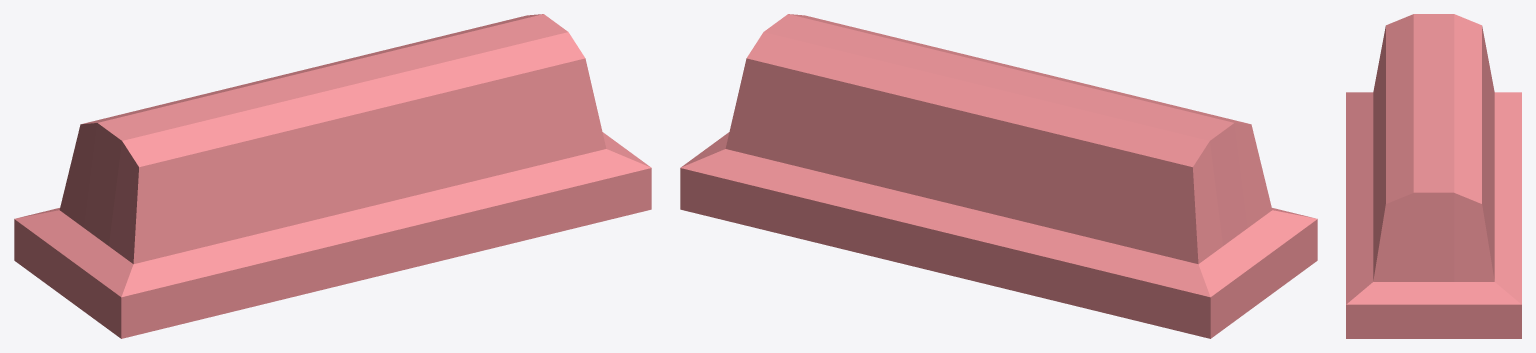
File: barri2.fbx
The picture shows the model from 3 angles, left to right: view 1: azimuth 30°, elevation 25°; view 2: azimuth 150°, elevation 25°; view 3: azimuth 270°, elevation 25°; orthographic projection. The views are drawn at different scales.
Parts seen in each view (by area): view 1: BarricadeSmall; view 2: BarricadeSmall; view 3: BarricadeSmall.
Boxes of the visible parts, left/top/right/bottom form: BarricadeSmall: left=14, top=14, right=651, bottom=338; BarricadeSmall: left=680, top=14, right=1317, bottom=338; BarricadeSmall: left=1346, top=14, right=1521, bottom=338.
Bounding box in the file's own units: 4 × 1.14 × 1.4.
